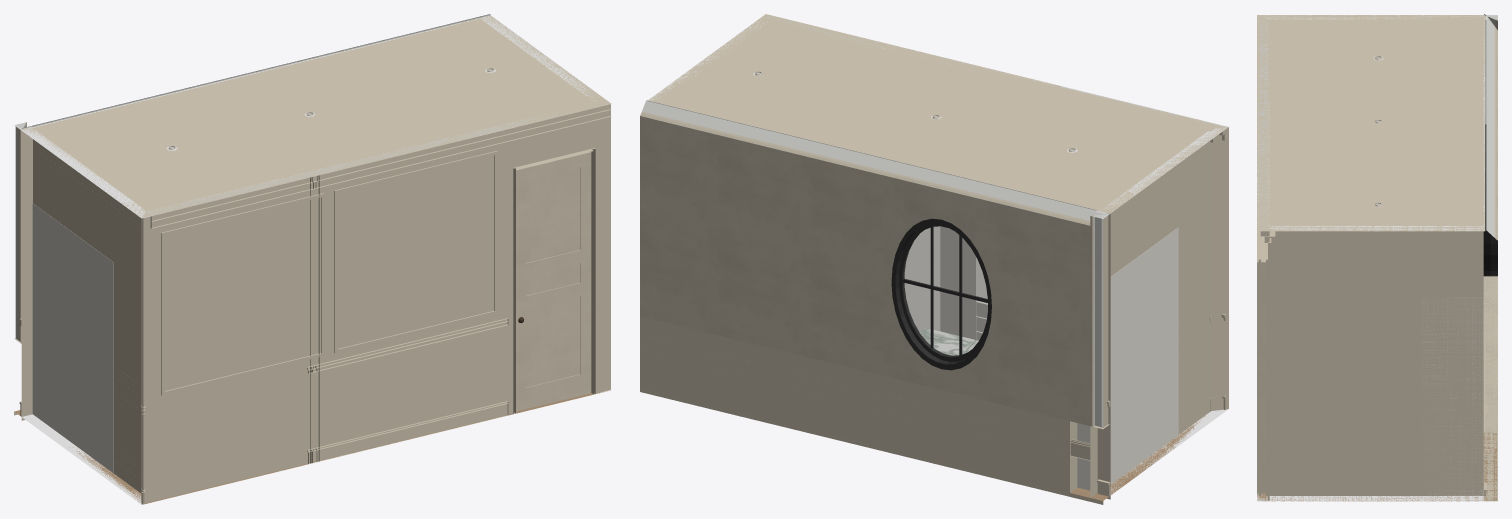
The model's file is primary-loli-closet-d785e4453fba.glb.
3 views of the same model, side by side, from view 1: azimuth 30°, elevation 25°; view 2: azimuth 150°, elevation 25°; view 3: azimuth 270°, elevation 25° (orthographic). The views are drawn at different scales.
Visible parts, largest first — view 1: primary-loli-closet-21ac2ed1b4475155, primary-loli-closet-9d91b47435c6fb33, primary-loli-closet-6d601da8073fdc0e, primary-loli-closet-77b772996f7f67b8, primary-loli-closet-69af8f587252f9fa, primary-loli-closet-e7983be95ab098c1, primary-loli-closet-e48b5483df8cacdb, primary-loli-closet-40ba494a131a1b09, primary-loli-closet-c8a93ab7b69c3b53, primary-loli-closet-9e6cdde78fc443e1, primary-loli-closet-08e5178be0cf1e43, primary-loli-closet-3a163573517a0810 (+10 smaller); view 2: primary-loli-closet-3763e2fb8578d282, primary-loli-closet-9d91b47435c6fb33, primary-loli-closet-3a806c711886e947, primary-loli-closet-69af8f587252f9fa, primary-loli-closet-77b772996f7f67b8, primary-loli-closet-36e90e3a4ab3386f, primary-loli-closet-91eb0f90e9e94d87, primary-loli-closet-28fa16303b99ff8f, primary-loli-closet-2575515a05775d9e, primary-loli-closet-254dccfc69fd7b68, primary-loli-closet-3a163573517a0810, primary-loli-closet-4717698be62d0b44 (+7 smaller); view 3: primary-loli-closet-95b94d4b81cfb474, primary-loli-closet-9d91b47435c6fb33, primary-loli-closet-3a806c711886e947, primary-loli-closet-91eb0f90e9e94d87, primary-loli-closet-21ac2ed1b4475155, primary-loli-closet-9e6cdde78fc443e1, primary-loli-closet-4717698be62d0b44, primary-loli-closet-3a163573517a0810, primary-loli-closet-2575515a05775d9e, primary-loli-closet-982e9316be37b1b4, primary-loli-closet-36e90e3a4ab3386f, primary-loli-closet-942c52dd436cf41a (+6 smaller).
Boxes of the visible parts, box(x1,y1,x2,y2) form: primary-loli-closet-21ac2ed1b4475155: box(142, 103, 611, 504); primary-loli-closet-9d91b47435c6fb33: box(21, 15, 611, 218); primary-loli-closet-6d601da8073fdc0e: box(516, 152, 591, 411); primary-loli-closet-77b772996f7f67b8: box(32, 203, 113, 472); primary-loli-closet-69af8f587252f9fa: box(22, 128, 145, 504); primary-loli-closet-e7983be95ab098c1: box(20, 15, 490, 343); primary-loli-closet-e48b5483df8cacdb: box(310, 175, 319, 462); primary-loli-closet-40ba494a131a1b09: box(161, 193, 324, 395); primary-loli-closet-c8a93ab7b69c3b53: box(334, 151, 497, 353); primary-loli-closet-9e6cdde78fc443e1: box(513, 148, 595, 413); primary-loli-closet-08e5178be0cf1e43: box(150, 104, 611, 228); primary-loli-closet-3a163573517a0810: box(141, 98, 603, 211); primary-loli-closet-3763e2fb8578d282: box(640, 113, 1092, 426); primary-loli-closet-9d91b47435c6fb33: box(647, 14, 1227, 214); primary-loli-closet-3a806c711886e947: box(640, 316, 1077, 492); primary-loli-closet-69af8f587252f9fa: box(1099, 127, 1228, 495); primary-loli-closet-77b772996f7f67b8: box(1077, 227, 1178, 490); primary-loli-closet-36e90e3a4ab3386f: box(891, 218, 991, 370); primary-loli-closet-91eb0f90e9e94d87: box(642, 100, 1107, 220); primary-loli-closet-28fa16303b99ff8f: box(924, 226, 987, 340); primary-loli-closet-2575515a05775d9e: box(640, 388, 1205, 504); primary-loli-closet-254dccfc69fd7b68: box(1093, 215, 1103, 428); primary-loli-closet-3a163573517a0810: box(758, 18, 1214, 142); primary-loli-closet-4717698be62d0b44: box(904, 230, 924, 332); primary-loli-closet-95b94d4b81cfb474: box(1269, 226, 1483, 501); primary-loli-closet-9d91b47435c6fb33: box(1257, 14, 1487, 231); primary-loli-closet-3a806c711886e947: box(1483, 276, 1497, 501); primary-loli-closet-91eb0f90e9e94d87: box(1485, 15, 1494, 432); primary-loli-closet-21ac2ed1b4475155: box(1257, 16, 1269, 501); primary-loli-closet-9e6cdde78fc443e1: box(1257, 236, 1265, 493); primary-loli-closet-4717698be62d0b44: box(1421, 297, 1483, 495); primary-loli-closet-3a163573517a0810: box(1268, 19, 1275, 242); primary-loli-closet-2575515a05775d9e: box(1257, 432, 1497, 501); primary-loli-closet-982e9316be37b1b4: box(1258, 15, 1266, 242); primary-loli-closet-36e90e3a4ab3386f: box(1483, 124, 1497, 276); primary-loli-closet-942c52dd436cf41a: box(1258, 243, 1260, 495).
Bounding box in the file's own units: 4.98 × 2.95 × 2.34.
22 materials, 5 textured.
